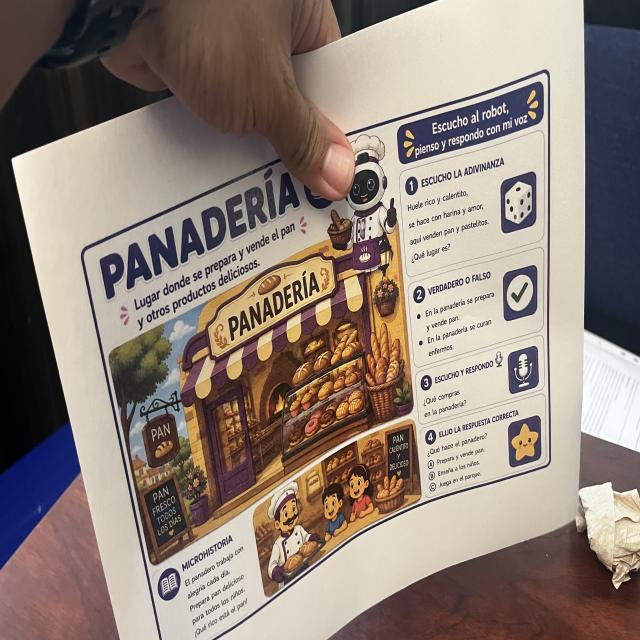panaderia: (78, 63, 555, 640)
